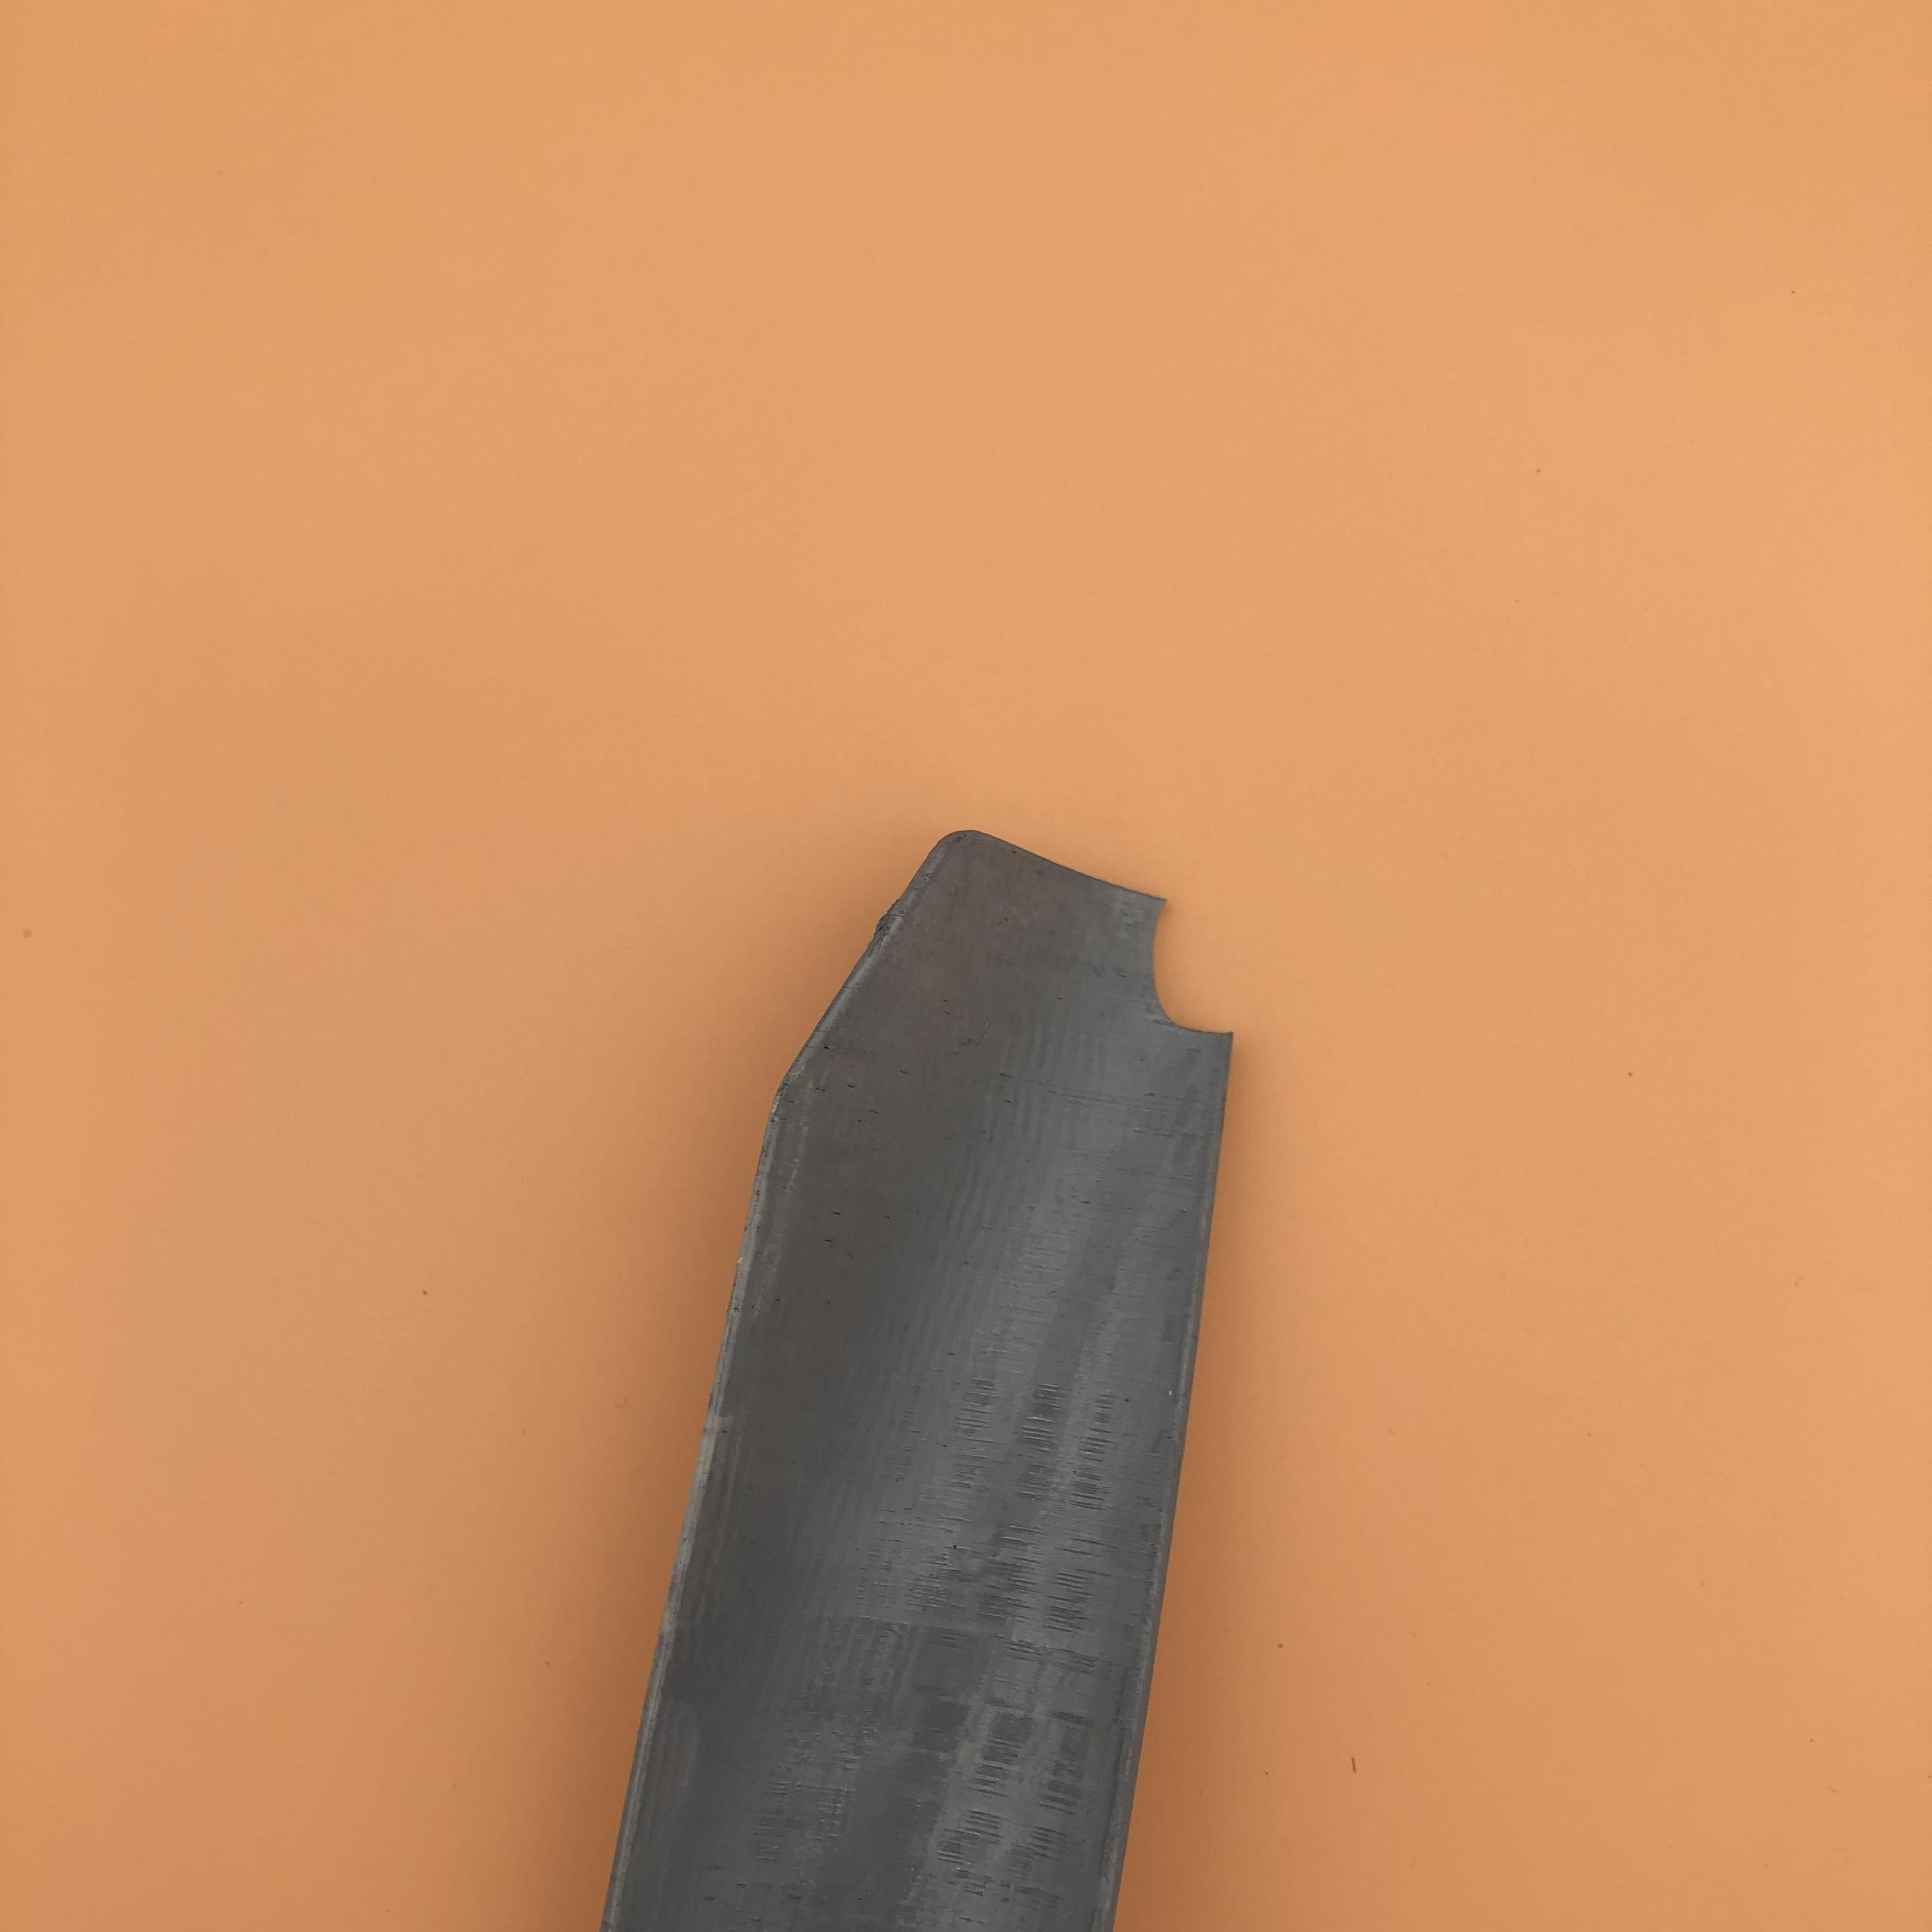fracture: (1106, 876, 1228, 1051)
